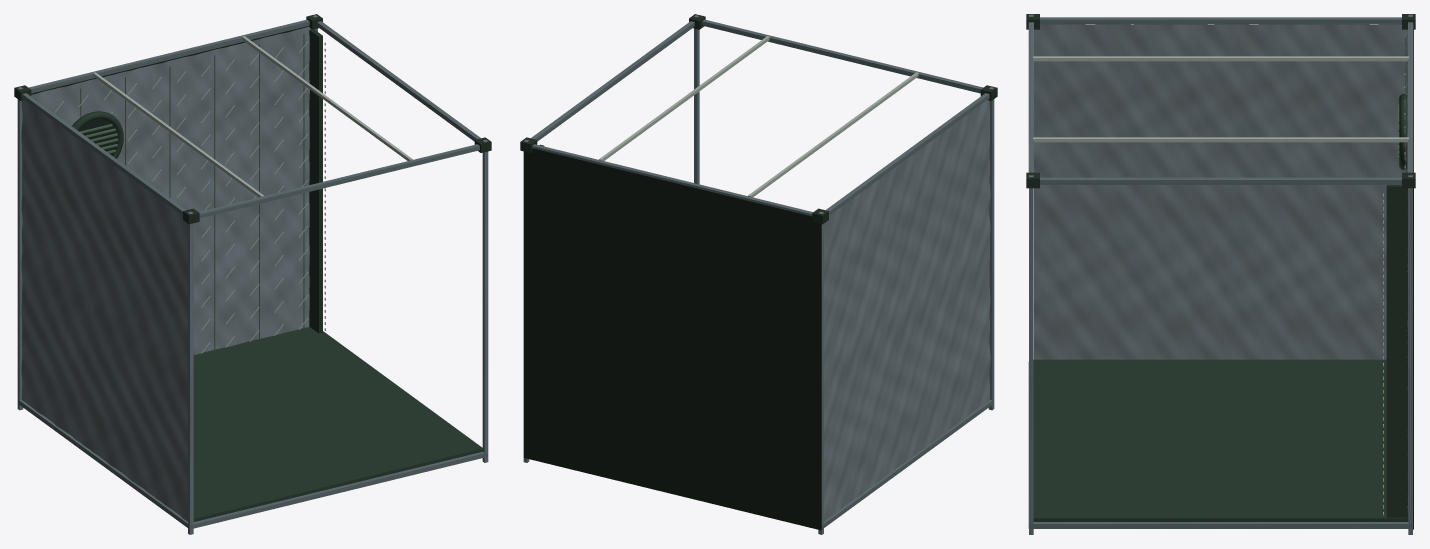
Rendered from tent.glb.
The picture shows the model from 3 angles, left to right: view 1: azimuth 30°, elevation 25°; view 2: azimuth 150°, elevation 25°; view 3: azimuth 270°, elevation 25°; orthographic projection. The views are drawn at different scales.
Parts seen in each view (by area): view 1: geo_7225_3ebe7bf9 (×2), geo_24_ade91ee5, geo_24_2b9d3bb5 (×10), geo_24_419448a5, geo_24_ec7690b5 (×2), geo_196_31363245, geo_451_fcb559ef; view 2: geo_24_cb56b7b5, geo_7225_3ebe7bf9, geo_24_2b9d3bb5 (×8), geo_24_ec7690b5 (×2); view 3: geo_7225_3ebe7bf9 (×2), geo_24_ade91ee5, geo_24_2b9d3bb5 (×7), geo_24_419448a5, geo_24_ec7690b5 (×2), geo_451_fcb559ef, geo_24_cb56b7b5.
Boxes of the visible parts, x1,y1,x2,y2 form: geo_7225_3ebe7bf9 (×2): [21, 26, 310, 521]; geo_24_ade91ee5: [193, 326, 482, 521]; geo_24_2b9d3bb5 (×10): [17, 19, 488, 534]; geo_24_419448a5: [309, 29, 322, 333]; geo_24_ec7690b5 (×2): [93, 36, 412, 197]; geo_196_31363245: [78, 119, 118, 155]; geo_451_fcb559ef: [72, 111, 123, 158]; geo_24_cb56b7b5: [523, 148, 821, 530]; geo_7225_3ebe7bf9: [824, 100, 990, 520]; geo_24_2b9d3bb5 (×8): [531, 15, 994, 534]; geo_24_ec7690b5 (×2): [599, 36, 918, 197]; geo_7225_3ebe7bf9 (×2): [1034, 24, 1408, 513]; geo_24_ade91ee5: [1033, 359, 1408, 521]; geo_24_2b9d3bb5 (×7): [1028, 17, 1413, 534]; geo_24_419448a5: [1386, 185, 1407, 517]; geo_24_ec7690b5 (×2): [1033, 56, 1408, 142]; geo_451_fcb559ef: [1399, 93, 1407, 170]; geo_24_cb56b7b5: [1413, 24, 1413, 529].
Bounding box in the file's own units: 1.02 × 1.03 × 1.02.
Materials: 19 (4 with a texture image).
